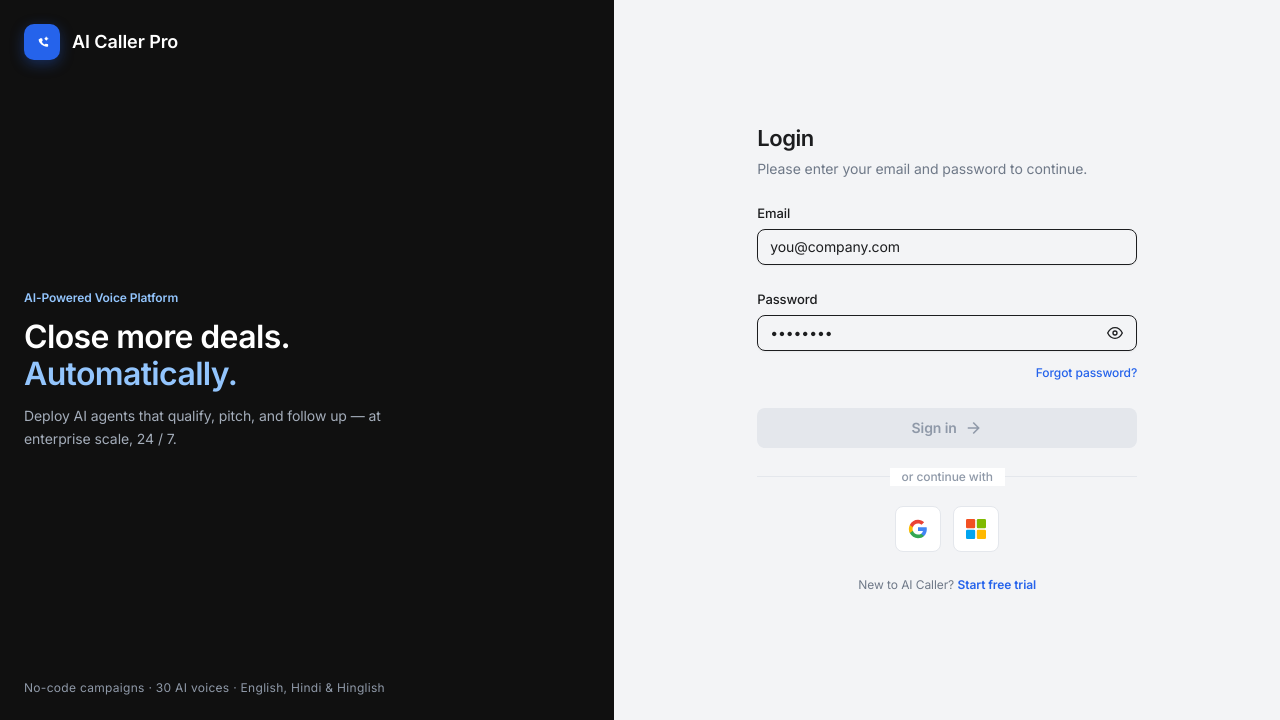
Login page › submits valid credentials and shows a success toast
The image size is (1280, 720).
Type "a@b.com" into the field labelled "Email" at (947, 247), box [757,229,1137,265]
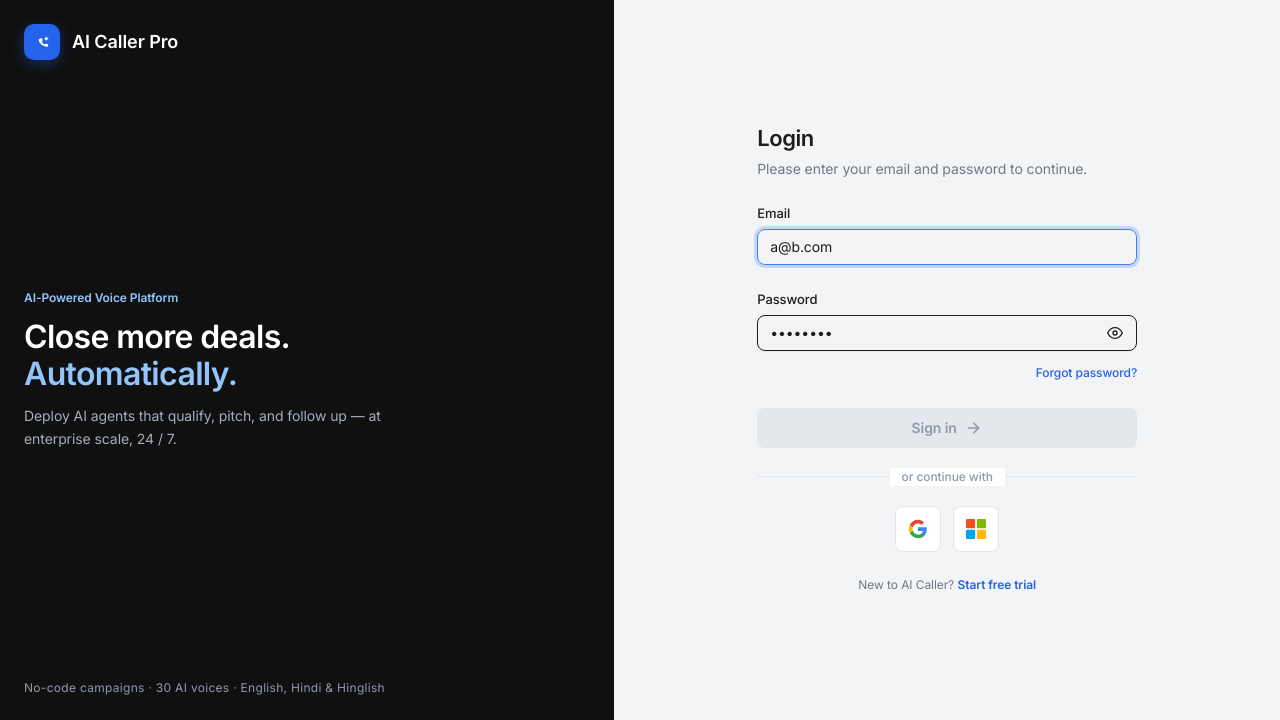
Type "password123" into the password field labelled "Password" at (947, 333), box [757,315,1137,351]
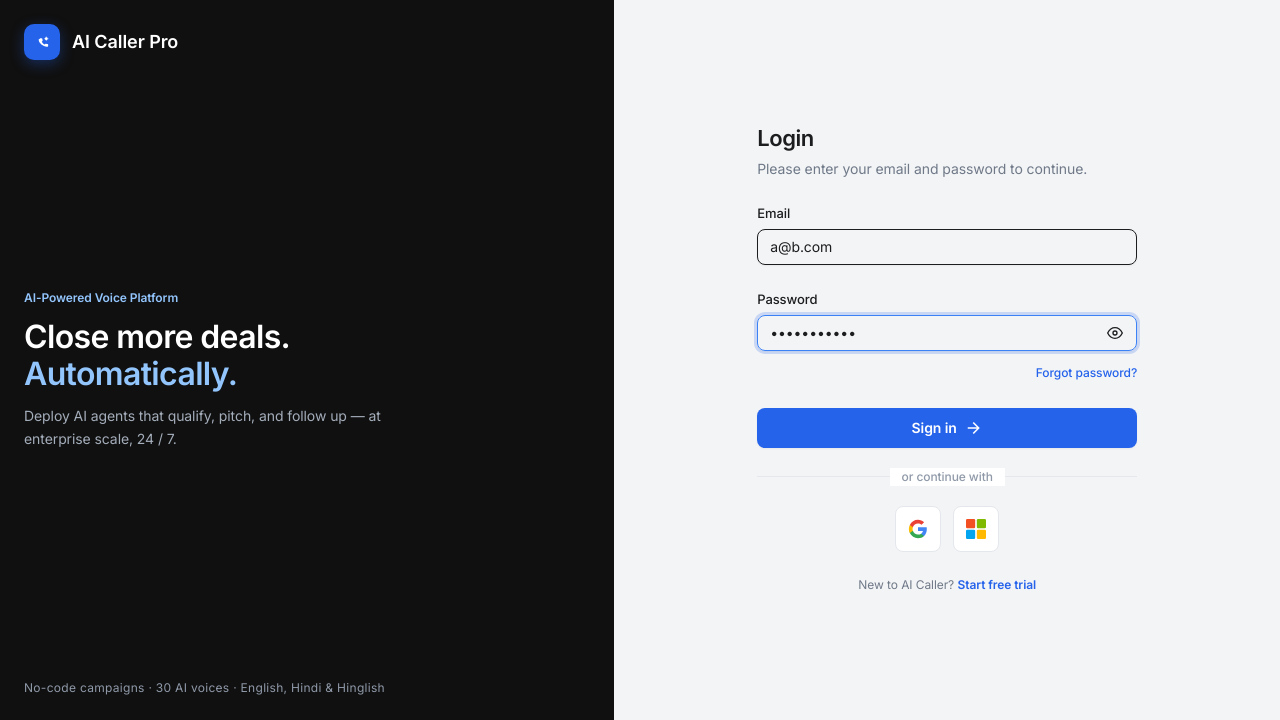
Click the button "Sign in" at (947, 428), box [757,408,1137,448]
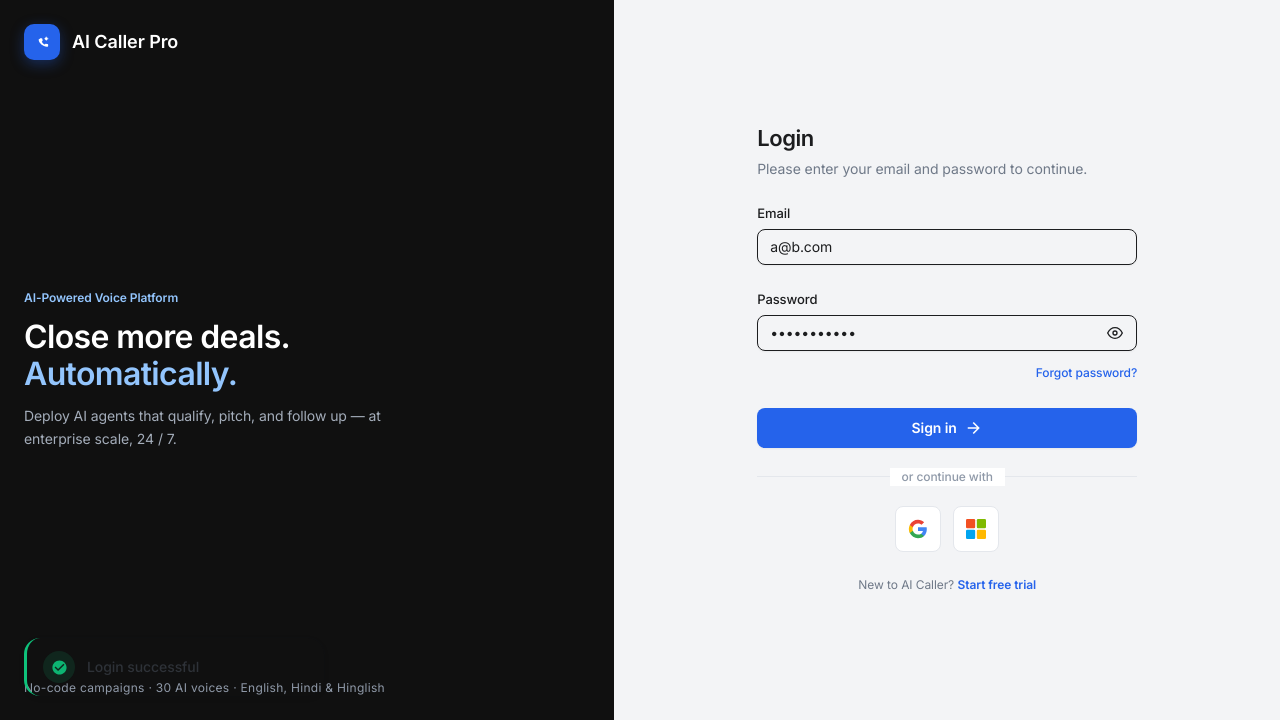
Result: the text "Login successful" is shown at [87,657,199,677]
